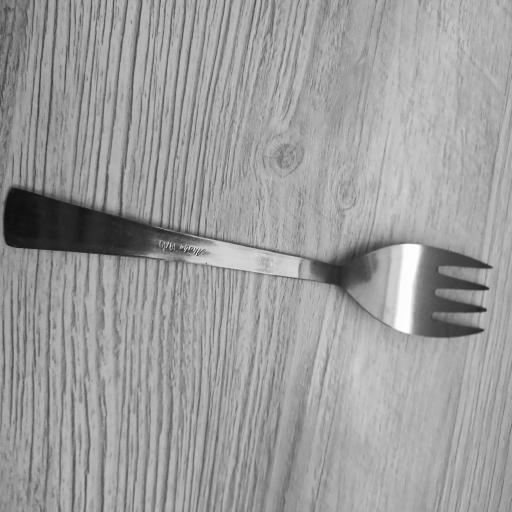fork: (5, 185, 495, 343)
